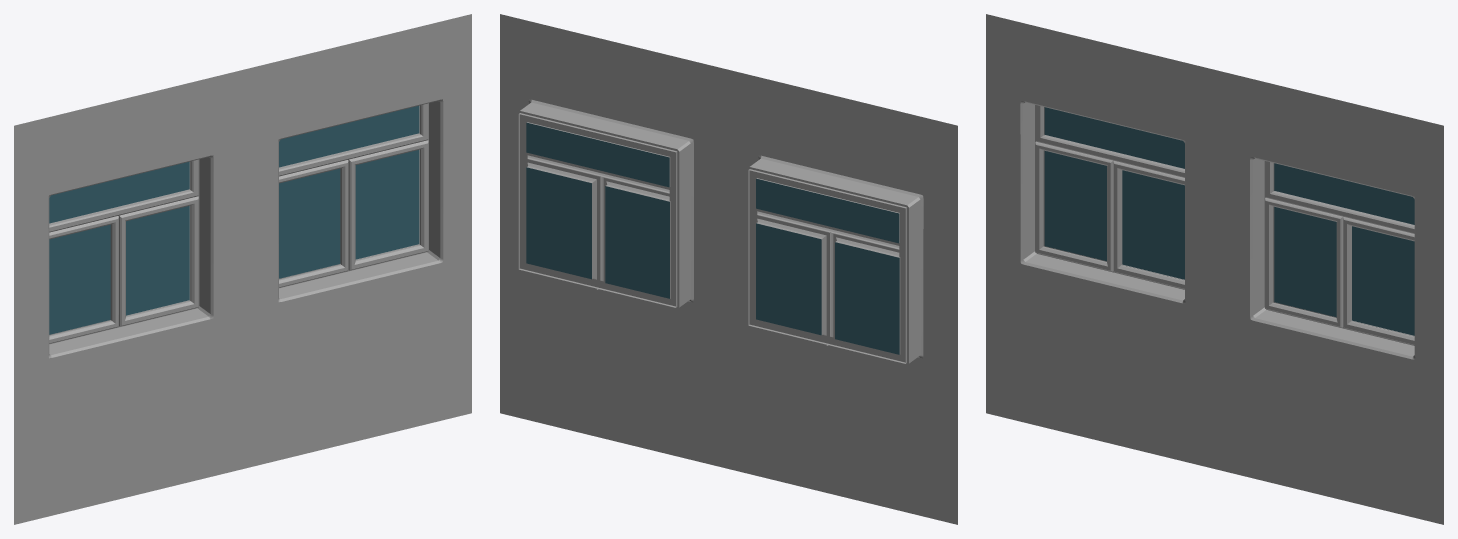
Rendered from Wall_Corner_WidowsPain_03.fbx.
3 renders of one model, left to right at view 1: azimuth 30°, elevation 25°; view 2: azimuth 150°, elevation 25°; view 3: azimuth 330°, elevation 25°, orthographic.
Visible parts, largest first — view 1: m_Wall_Straight_WindowsPlain_03; view 2: m_Wall_Straight_WindowsPlain_03; view 3: m_Wall_Straight_WindowsPlain_03.
Boxes of the visible parts, left/top/right/bottom form: m_Wall_Straight_WindowsPlain_03: left=14, top=14, right=471, bottom=524; m_Wall_Straight_WindowsPlain_03: left=500, top=14, right=957, bottom=524; m_Wall_Straight_WindowsPlain_03: left=986, top=14, right=1443, bottom=524.
Size of the model in its own units: 300 by 250 by 17.56.
